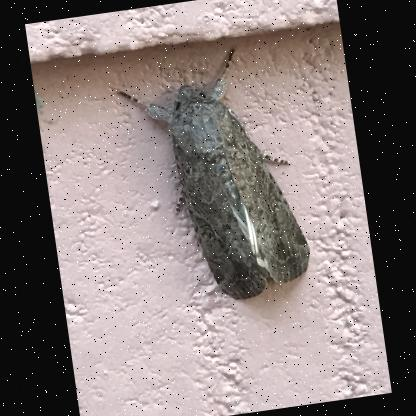Fall Armyworm Moth: (108, 34, 319, 318)
